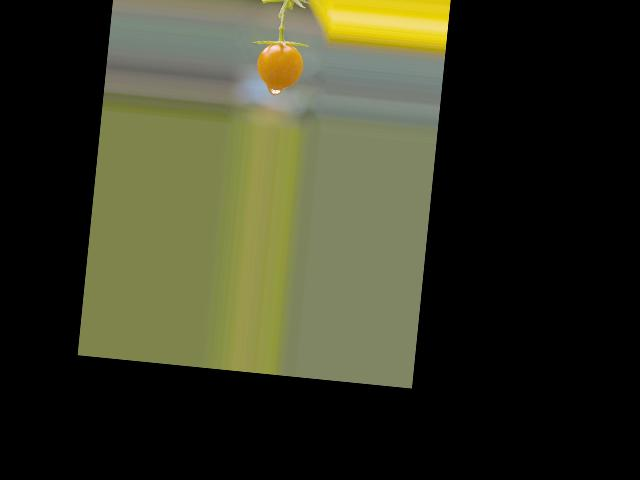tomato: (254, 41, 304, 90)
